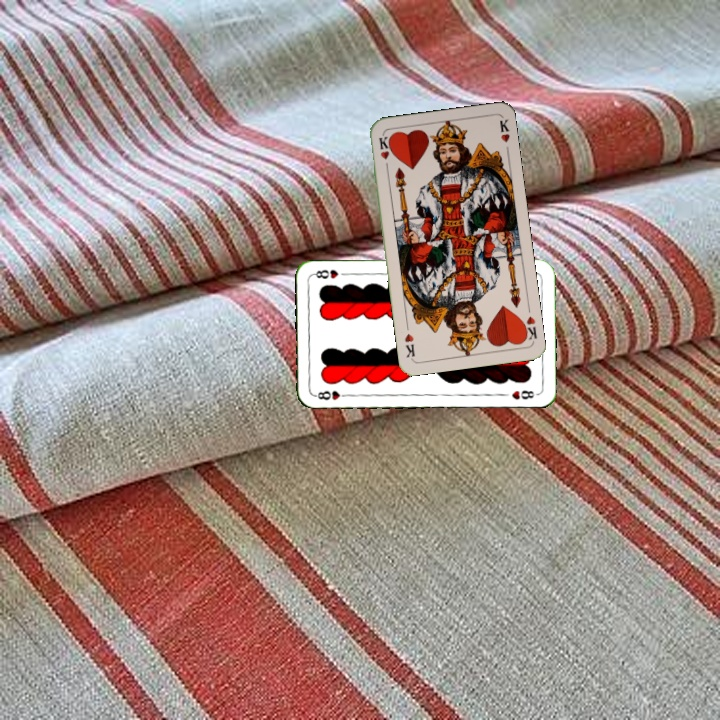H8: (311, 387, 351, 403)
HK: (375, 132, 394, 173), (518, 312, 539, 344)
